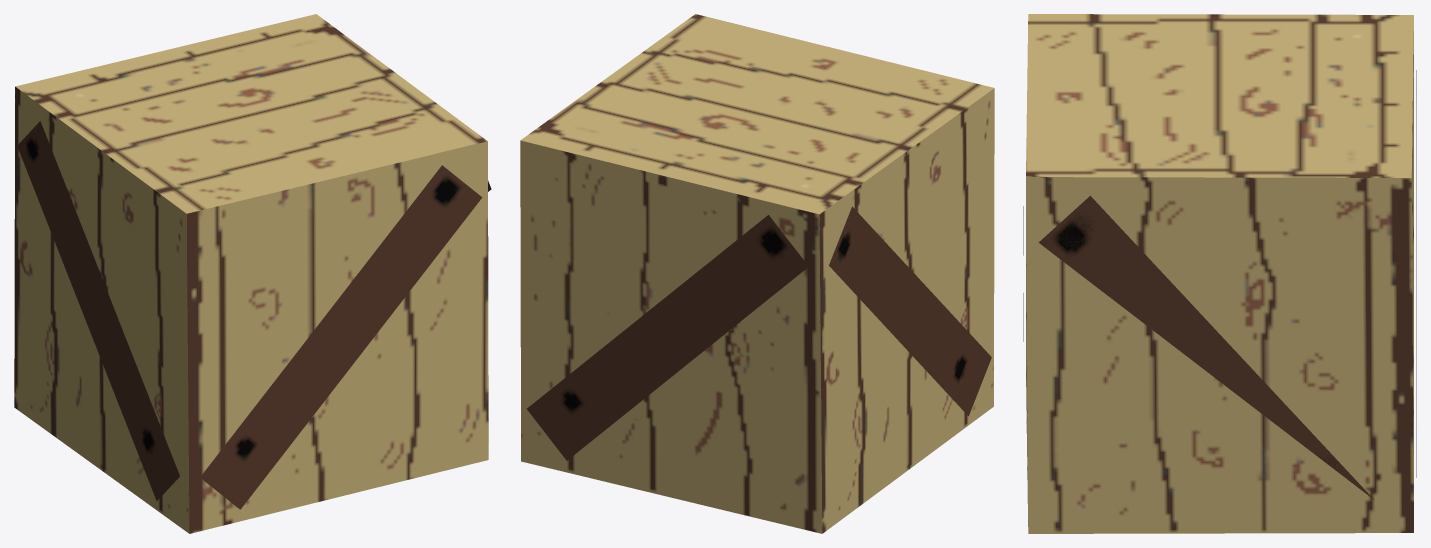
3 views of the same model, side by side, from view 1: azimuth 30°, elevation 25°; view 2: azimuth 150°, elevation 25°; view 3: azimuth 270°, elevation 25° (orthographic). The views are drawn at different scales.
Parts seen in each view (by area): view 1: лодд2; view 2: лодд2; view 3: лодд2.
Boxes of the visible parts, <box> form: лодд2: <box>14,14,491,533</box>; лодд2: <box>520,14,994,533</box>; лодд2: <box>1023,14,1416,533</box>.
Bounding box in the file's own units: 204 × 200 × 200.
